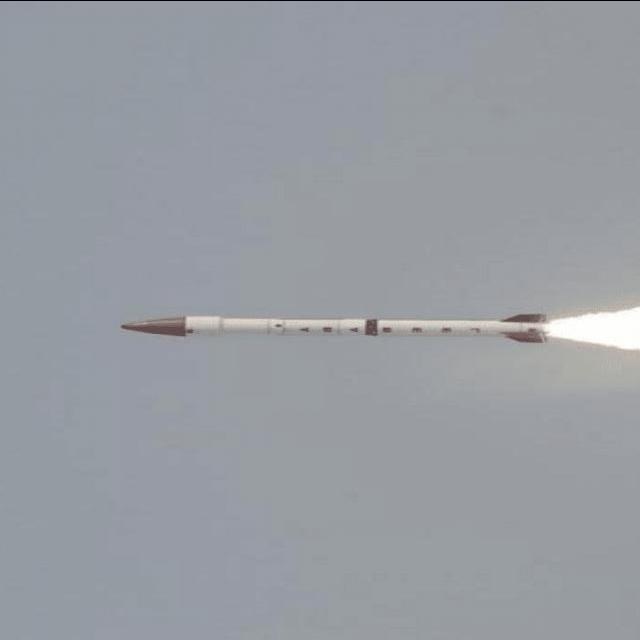missile: (118, 306, 562, 353)
